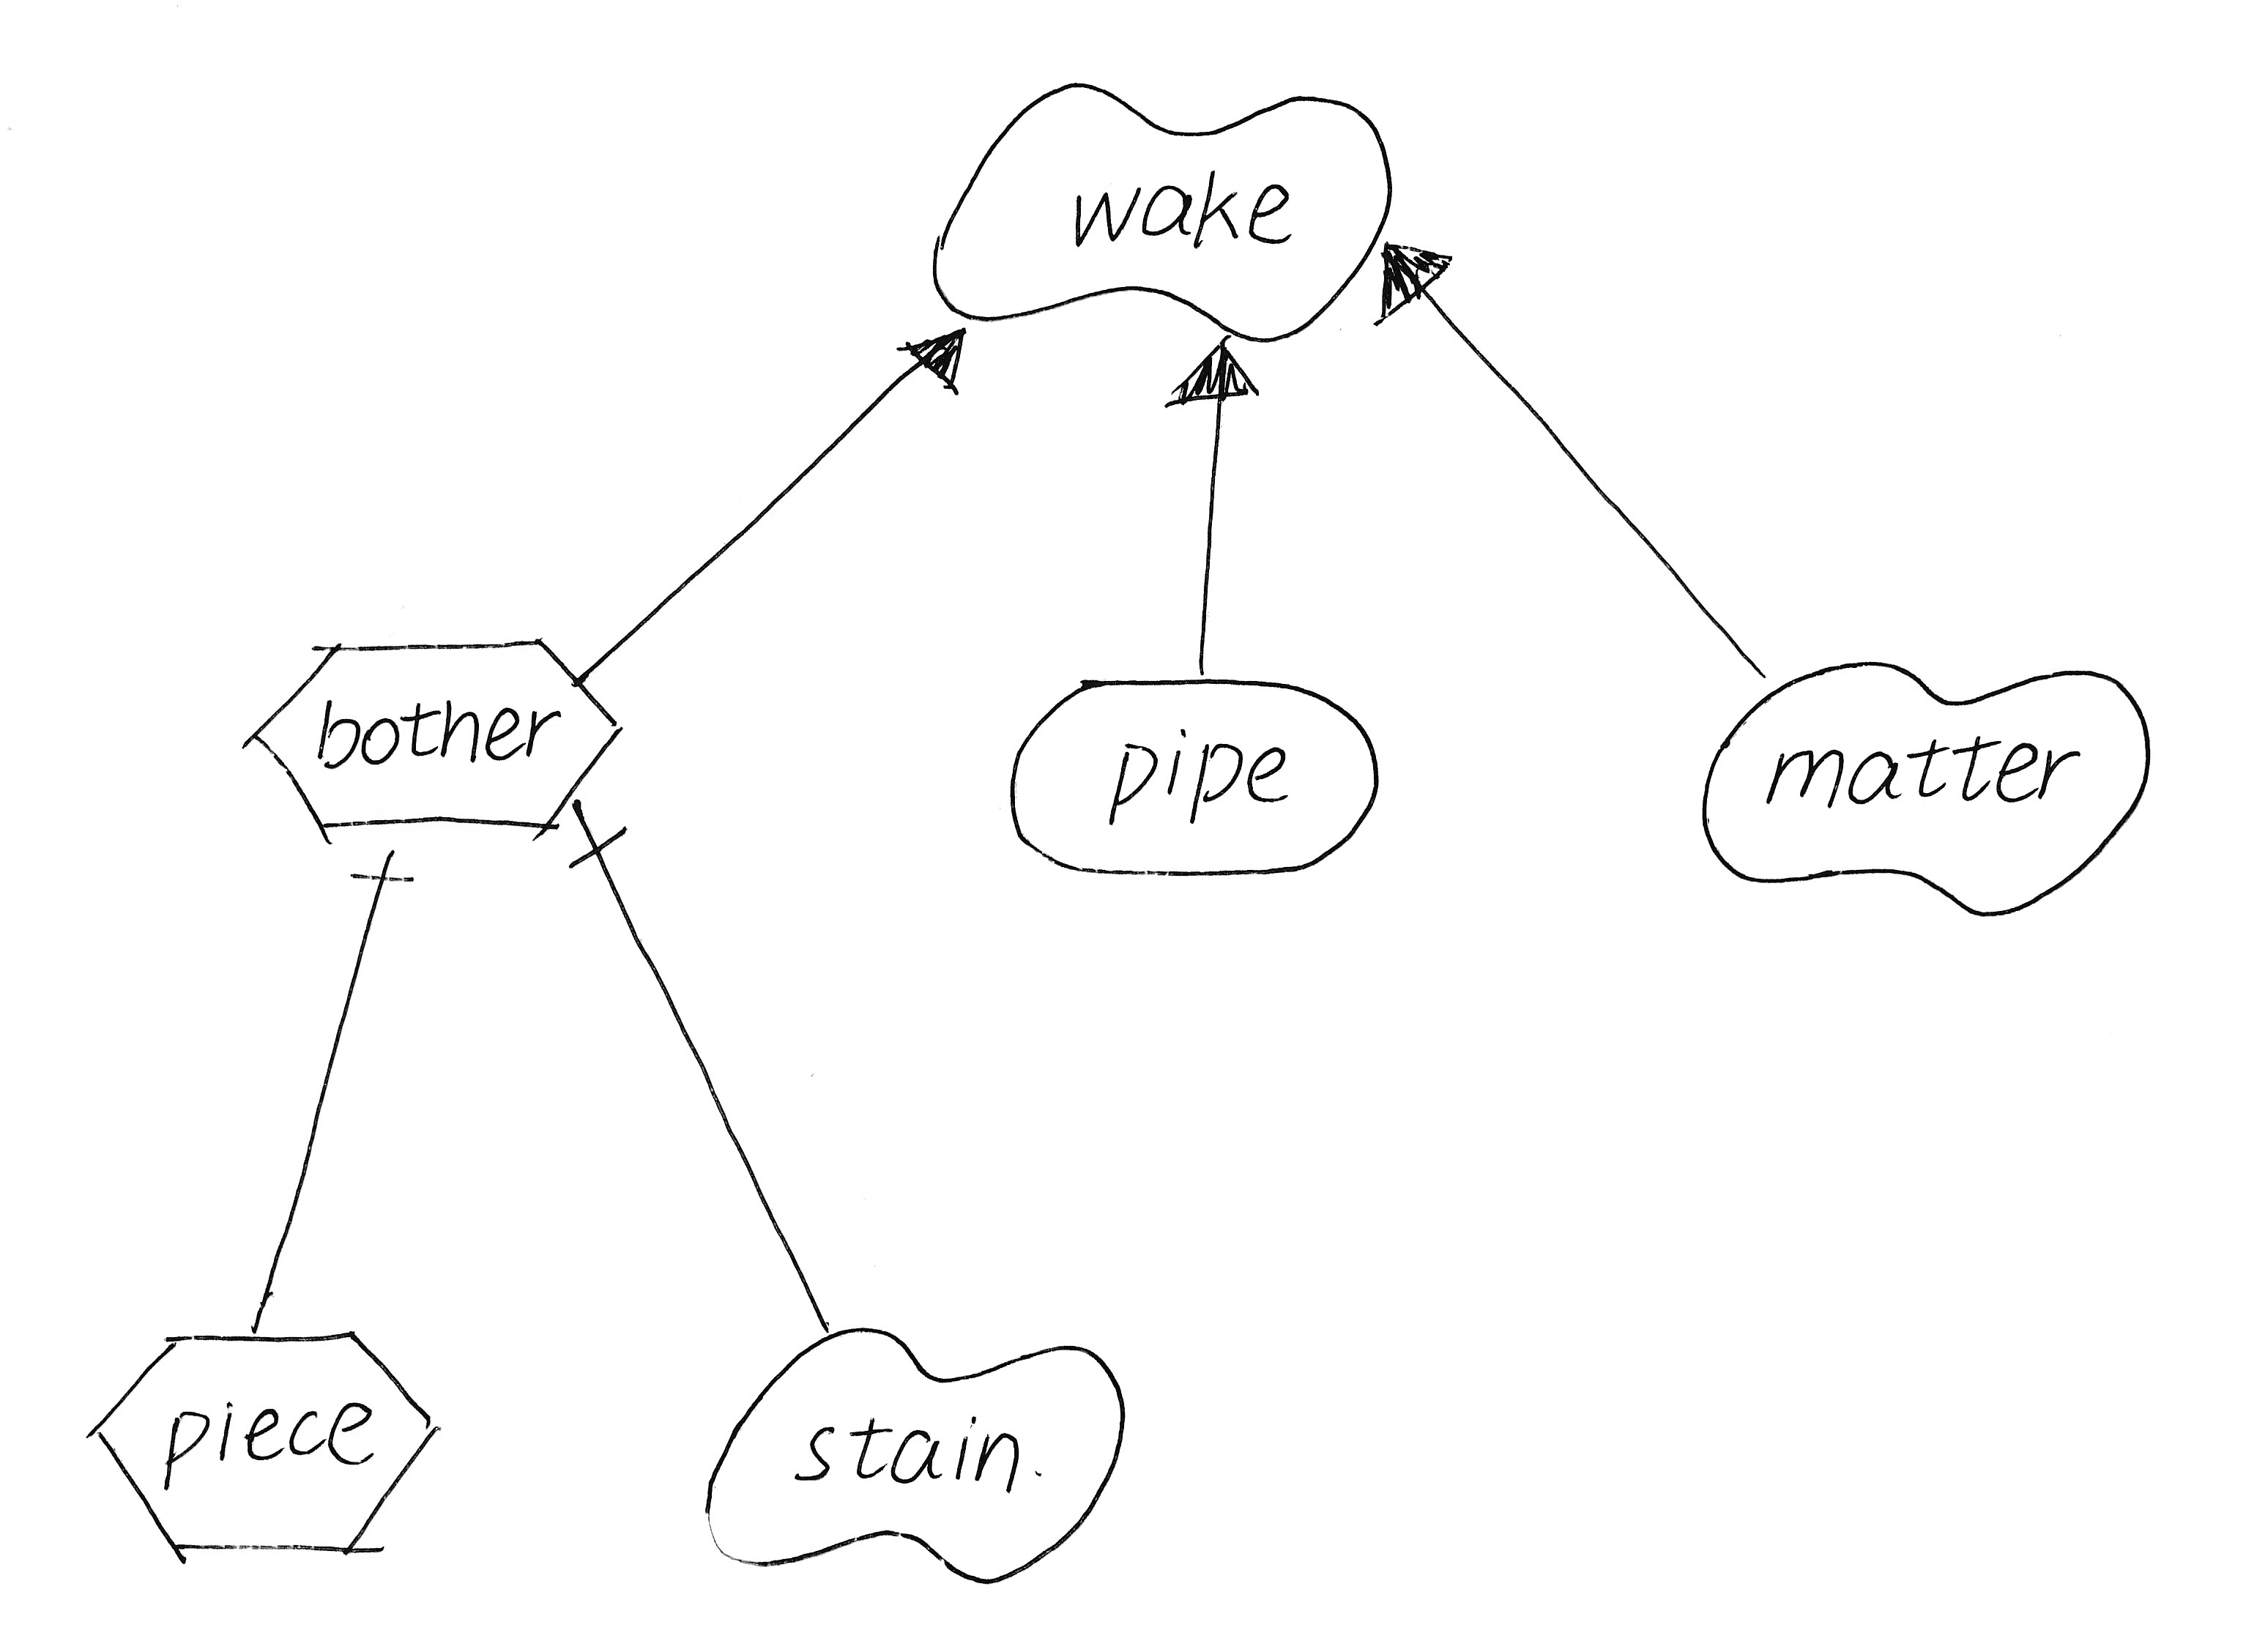and: (553, 788, 645, 886), (337, 830, 427, 900)
goal: (987, 651, 1400, 895)
or: (1364, 227, 1468, 337), (1160, 324, 1269, 424), (902, 319, 983, 401)
quality: (914, 63, 1411, 366), (1676, 642, 2169, 933), (687, 1305, 1151, 1603)
task: (71, 1312, 455, 1579), (230, 619, 638, 853)
